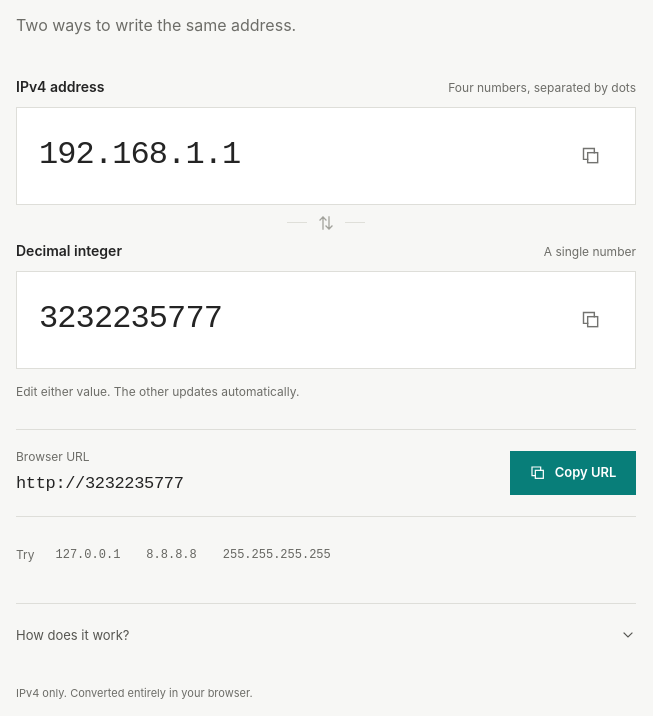
Scenario: opens the explanation with the current formula
(page scrolled)
Click the heading "How does it work?" at x=73, y=634, box [16,626,636,643]
(page scrolled)
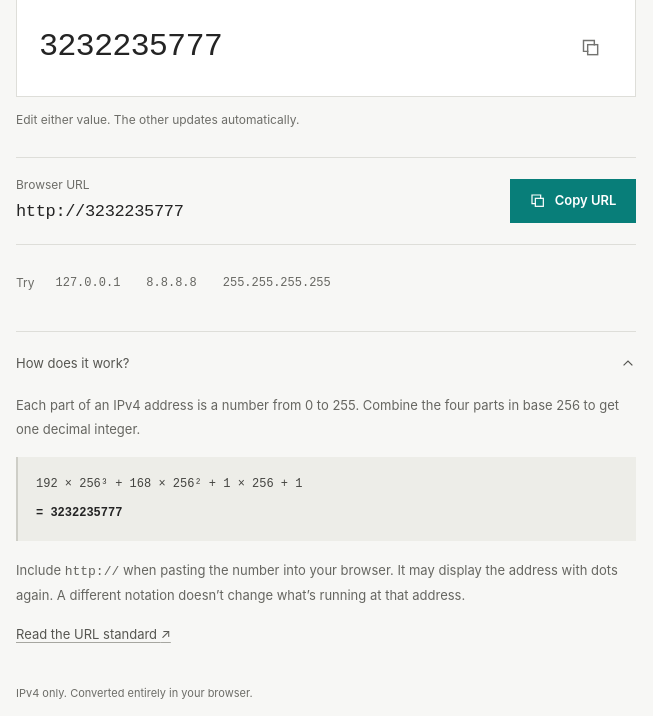
Expected: the text "192 × 256³ + 168 × 256² + 1 × 256 + 1" is shown, [36,477,302,491]
